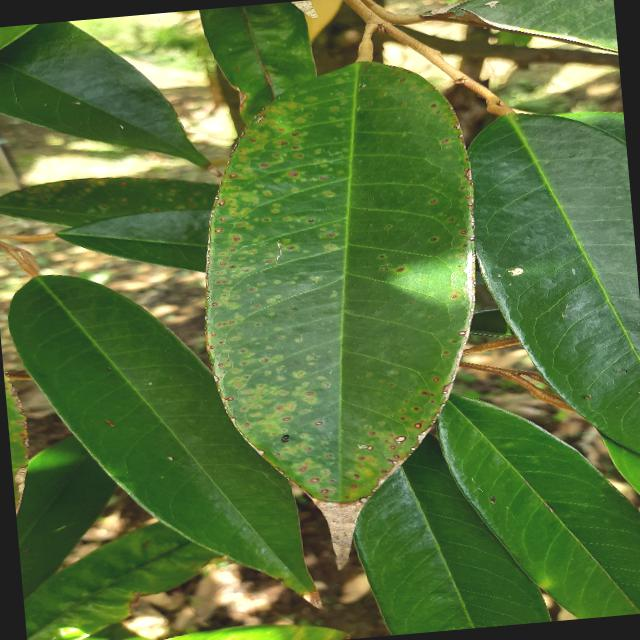Leaf Spot: (176, 41, 509, 526)
